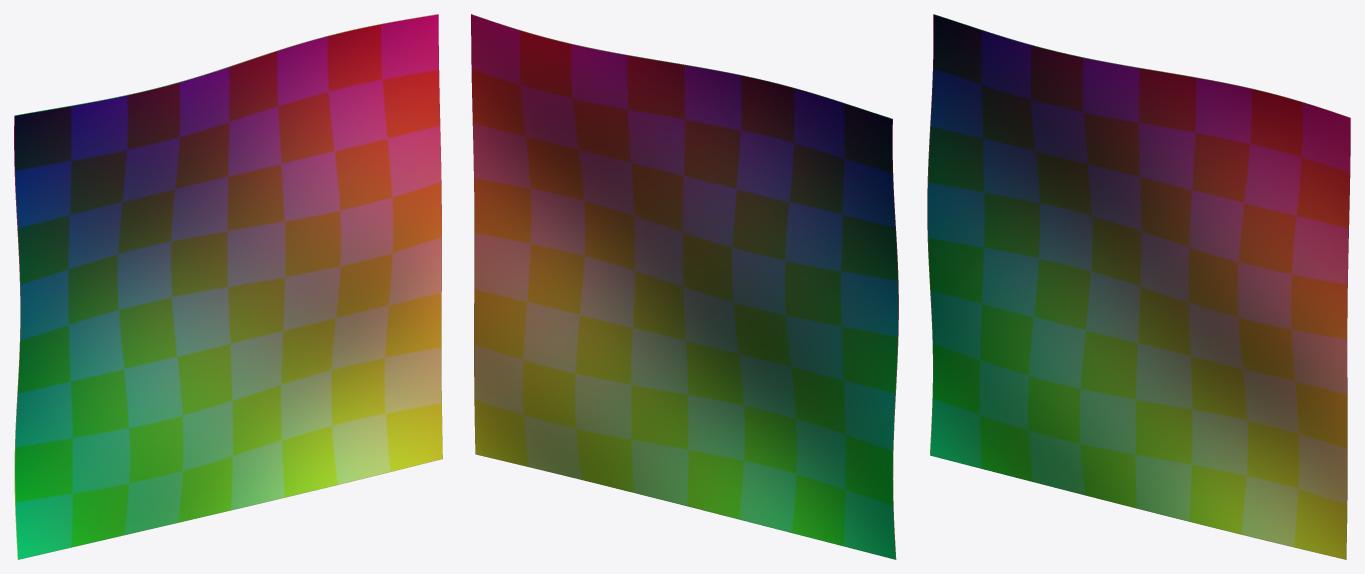
File: Tile_+018_+030.obj
3 renders of one model, left to right at view 1: azimuth 30°, elevation 25°; view 2: azimuth 150°, elevation 25°; view 3: azimuth 330°, elevation 25°, orthographic.
Bounding box in the file's own units: 100 × 100 × 6.05.
